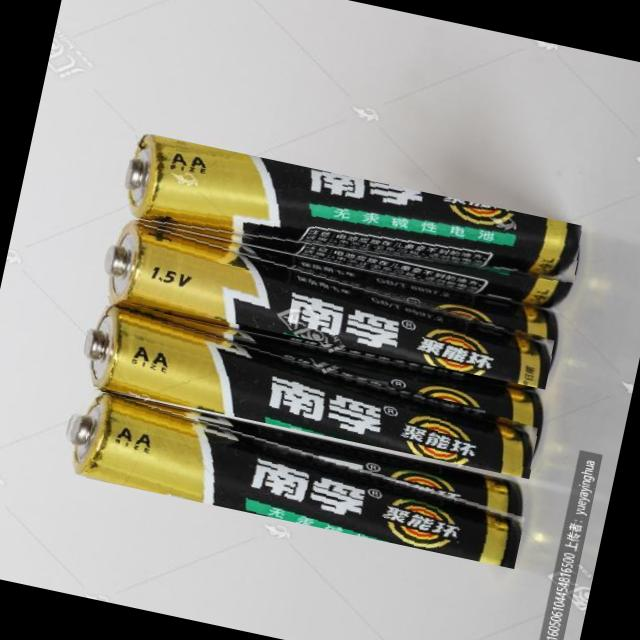Hazard: (55, 382, 532, 568), (76, 291, 549, 478), (117, 130, 586, 316), (95, 210, 562, 388)
